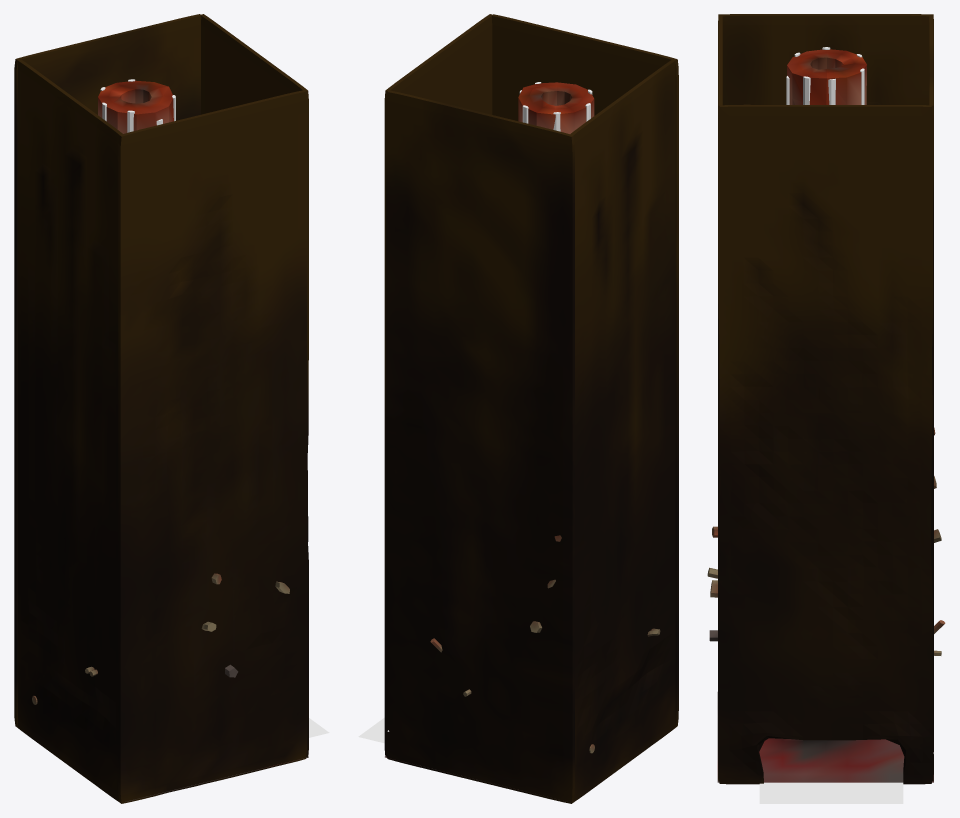
The model's file is Générateur altéré.fbx.
3 renders of one model, left to right at view 1: azimuth 30°, elevation 25°; view 2: azimuth 150°, elevation 25°; view 3: azimuth 270°, elevation 25°, orthographic.
Visible parts, largest first — view 1: Mur gauche, Mur fond, Mur droit, Mur face, Cylindre; view 2: Mur droit, Mur fond, Mur gauche, Mur face, Cylindre; view 3: Mur face, Mur fond, Plan, Cylindre, Plan 5, Mur droit, Mur gauche, Tube 8.
Part boxes in pixels (x1=…): Mur gauche: x1=118, y1=90, x2=307, y2=803; Mur fond: x1=17, y1=59, x2=122, y2=801; Mur droit: x1=14, y1=14, x2=201, y2=727; Mur face: x1=201, y1=14, x2=308, y2=758; Cylindre: x1=98, y1=80, x2=173, y2=133; Mur droit: x1=386, y1=90, x2=574, y2=803; Mur fond: x1=570, y1=59, x2=676, y2=801; Mur gauche: x1=492, y1=14, x2=678, y2=727; Mur face: x1=384, y1=14, x2=492, y2=757; Cylindre: x1=518, y1=82, x2=594, y2=133; Mur face: x1=718, y1=104, x2=932, y2=784; Mur fond: x1=720, y1=14, x2=930, y2=105; Plan: x1=717, y1=692, x2=933, y2=782; Cylindre: x1=787, y1=49, x2=866, y2=104; Plan 5: x1=759, y1=782, x2=903, y2=803; Mur droit: x1=929, y1=14, x2=933, y2=781; Mur gauche: x1=718, y1=14, x2=722, y2=781; Tube 8: x1=786, y1=47, x2=864, y2=104.
Bounding box in the file's own units: 15.6 × 42.02 × 13.36.
